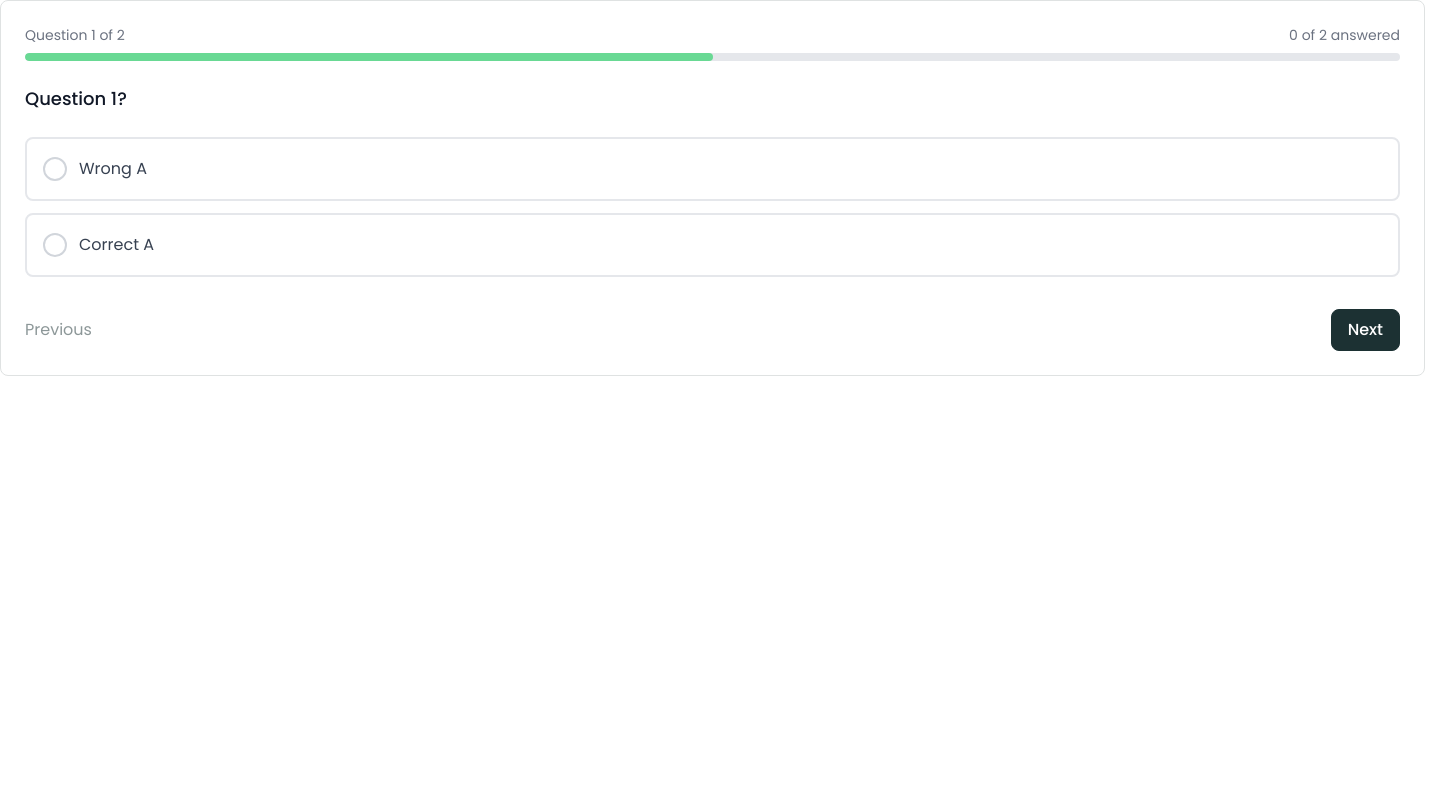
Scenario: Quiz › after submission renders QuizResults
Click the button "Correct A". click: (117, 244)
box: x1=25 y1=213 x2=1400 y2=277
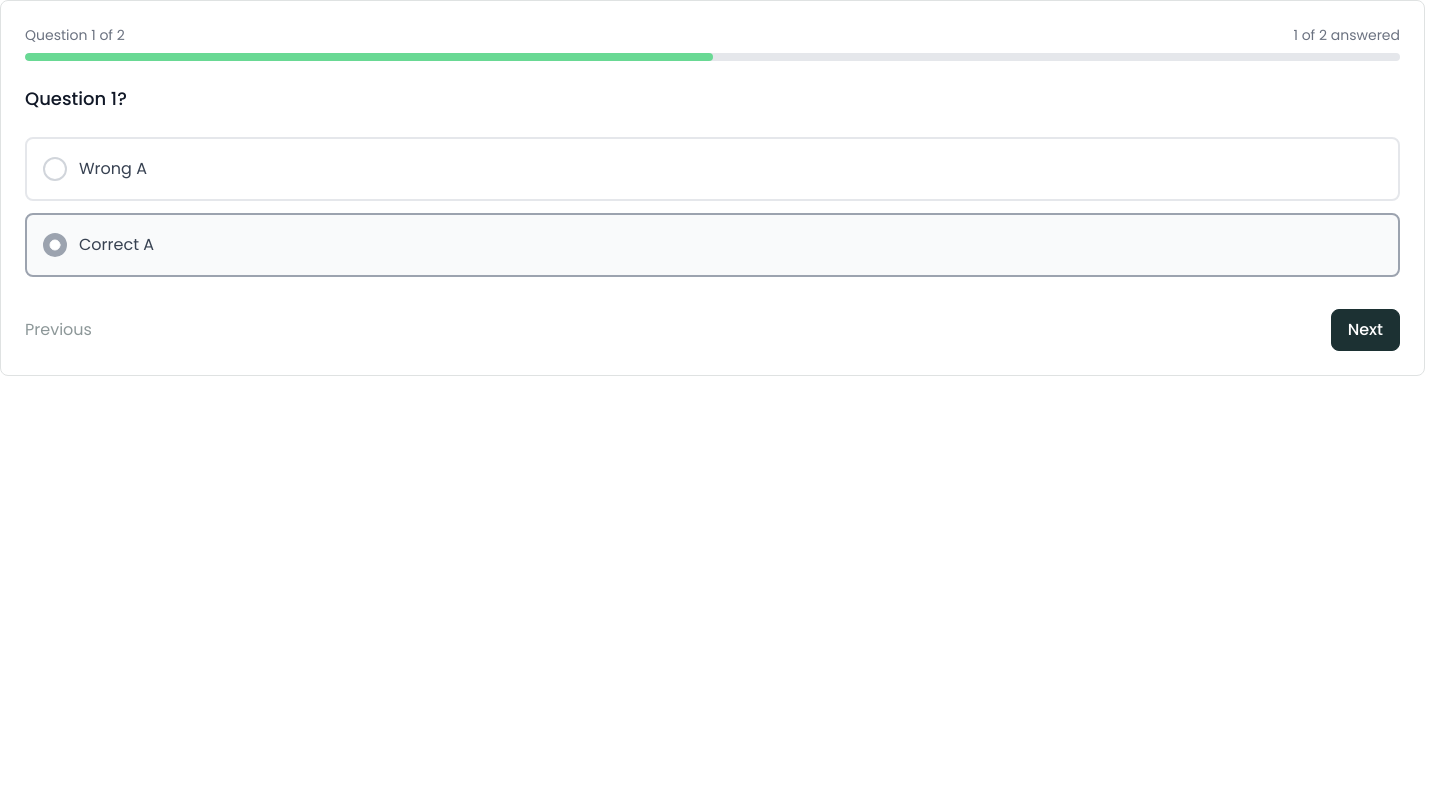
Click the button "Next". click: (1365, 330)
box: x1=1331 y1=309 x2=1400 y2=351
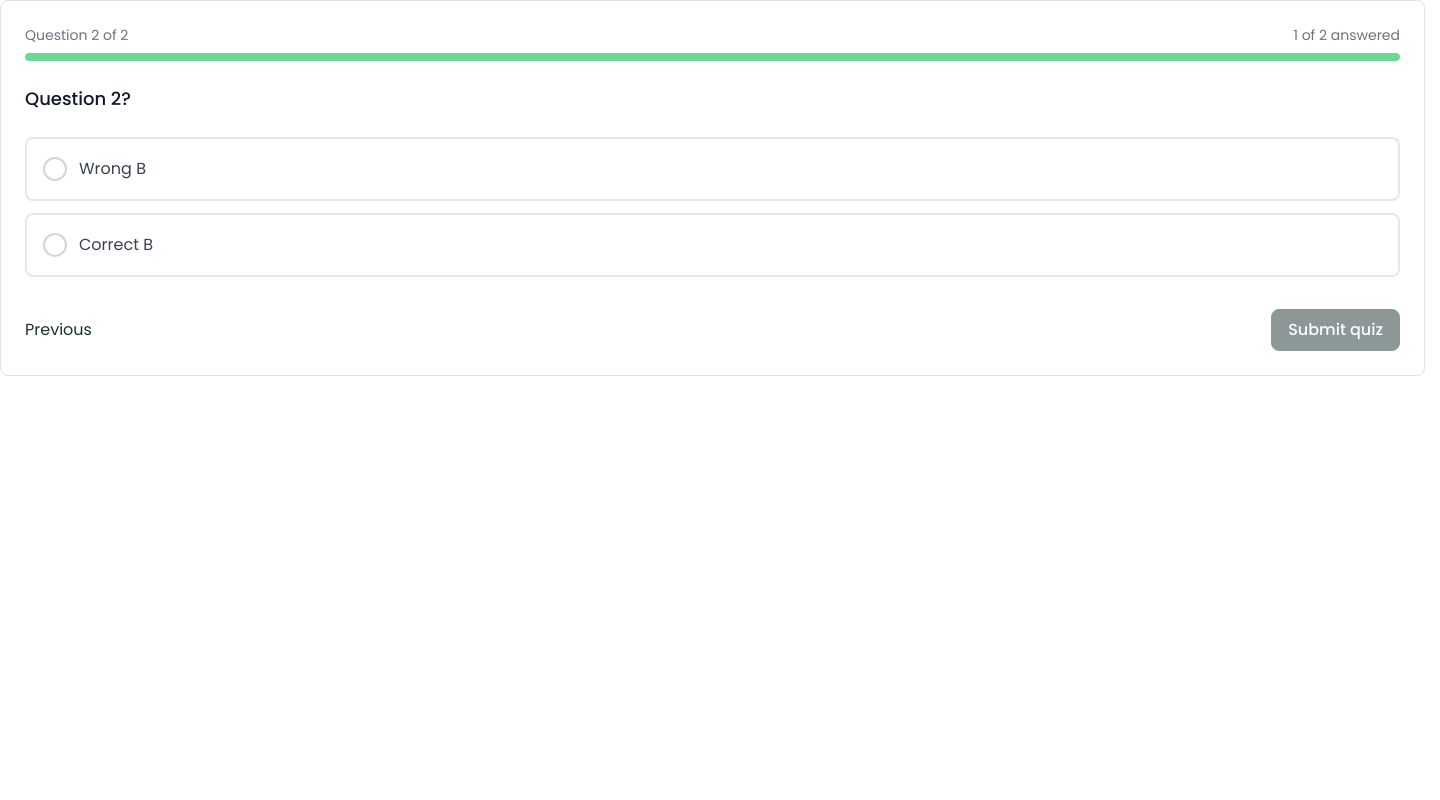
Click the button "Correct B". click: (116, 244)
box: x1=25 y1=213 x2=1400 y2=277
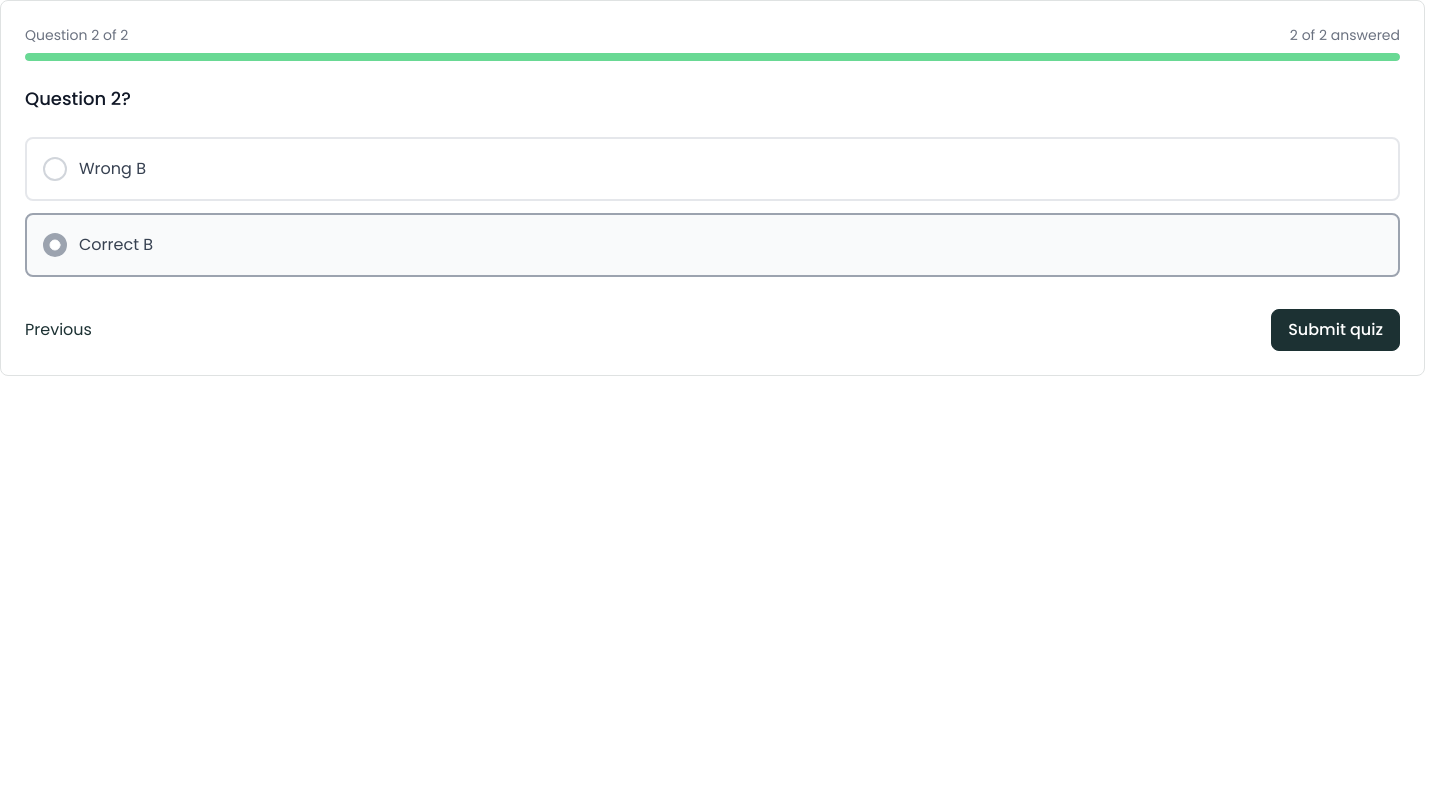
Click the button "Submit quiz". click: (1336, 330)
box: x1=1271 y1=309 x2=1400 y2=351
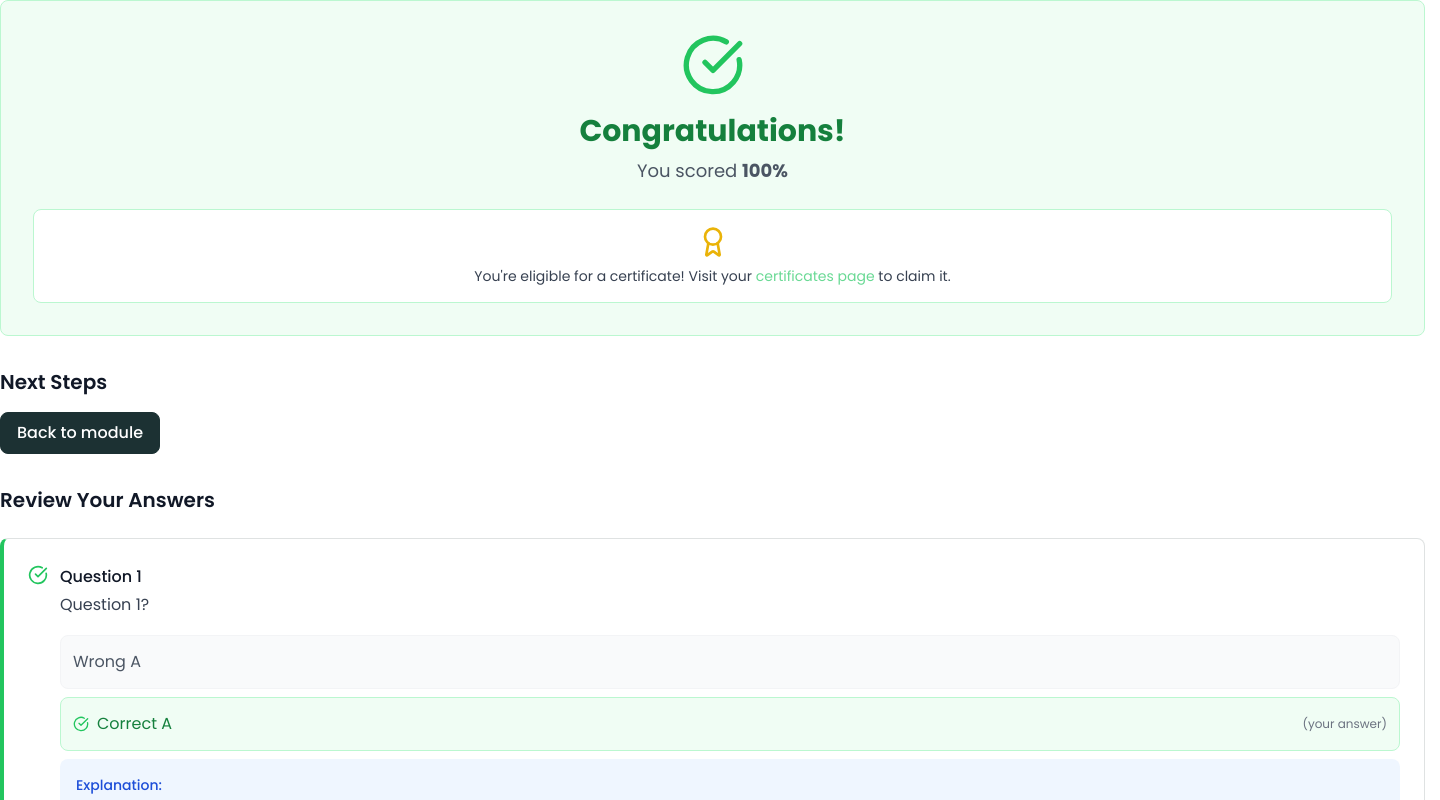
Result: the heading "Congratulations!" is shown at x1=579 y1=110 x2=846 y2=152
